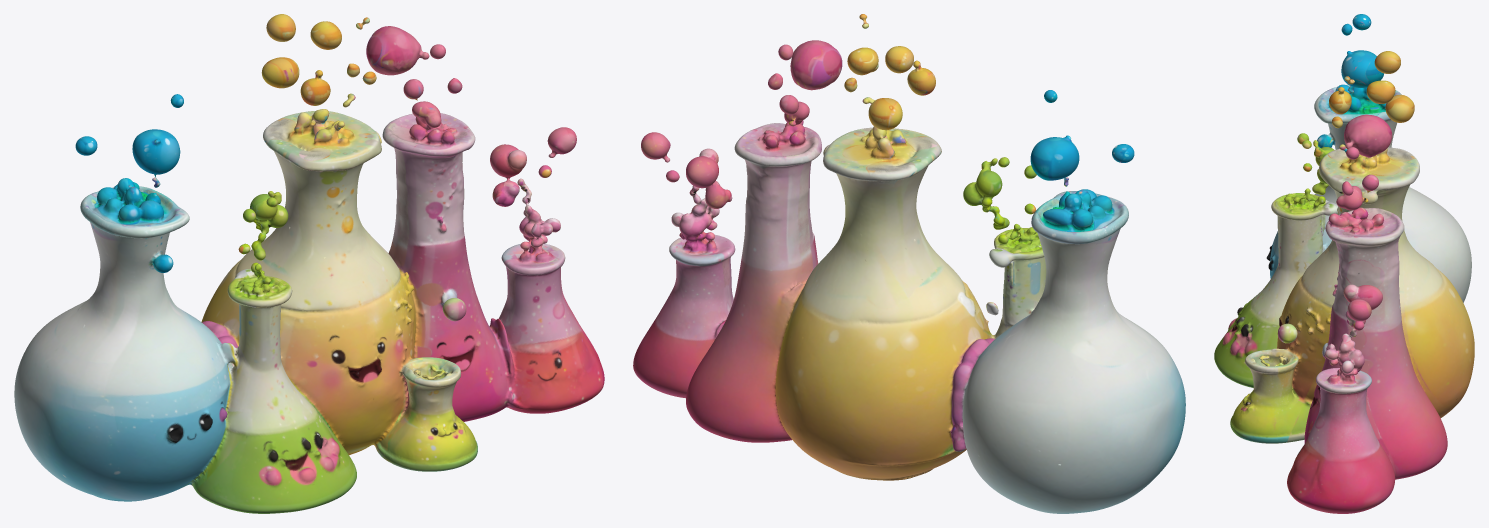
File: experiment.glb
The picture shows the model from 3 angles, left to right: view 1: azimuth 30°, elevation 25°; view 2: azimuth 150°, elevation 25°; view 3: azimuth 270°, elevation 25°; orthographic projection. The views are drawn at different scales.
Bounding box in the file's own units: 65546 × 49117 × 32176.
1 material, 1 textured.
